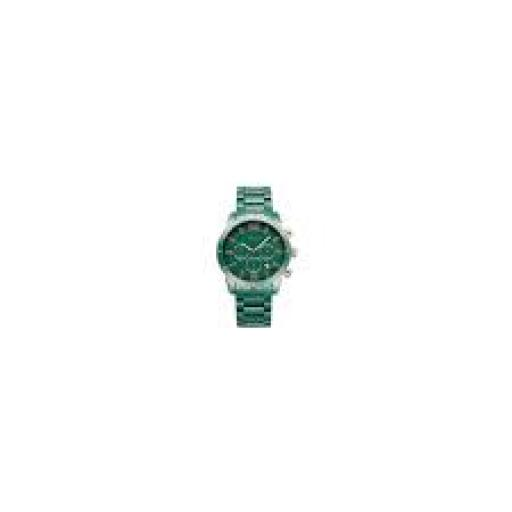KolSaati: (157, 128, 340, 388)
